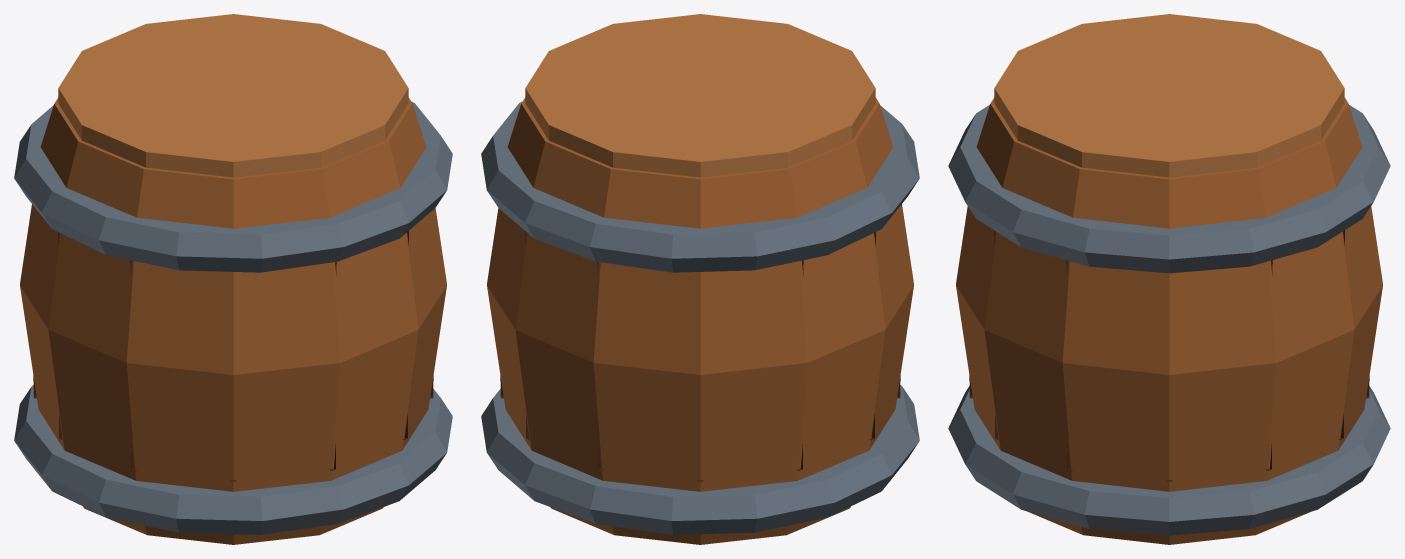
The model's file is kit_barrel.glb.
3 views of the same model, side by side, from view 1: azimuth 30°, elevation 25°; view 2: azimuth 150°, elevation 25°; view 3: azimuth 270°, elevation 25° (orthographic).
Visible parts, largest first — view 1: Barrel staves, Barrel lid, Barrel iron hoop.001, Barrel iron hoop; view 2: Barrel staves, Barrel lid, Barrel iron hoop.001, Barrel iron hoop; view 3: Barrel staves, Barrel lid, Barrel iron hoop.001, Barrel iron hoop.
Part boxes in pixels (<box>): Barrel staves: <box>20,97,446,544</box>; Barrel lid: <box>58,14,408,177</box>; Barrel iron hoop.001: <box>14,101,452,272</box>; Barrel iron hoop: <box>14,385,452,534</box>; Barrel staves: <box>487,97,913,544</box>; Barrel lid: <box>525,14,875,177</box>; Barrel iron hoop.001: <box>481,101,919,272</box>; Barrel iron hoop: <box>481,385,919,534</box>; Barrel staves: <box>956,97,1382,544</box>; Barrel lid: <box>994,14,1344,177</box>; Barrel iron hoop.001: <box>948,105,1390,273</box>; Barrel iron hoop: <box>948,386,1390,535</box>.
Size of the model in its own units: 0.642 by 0.615 by 0.642.
